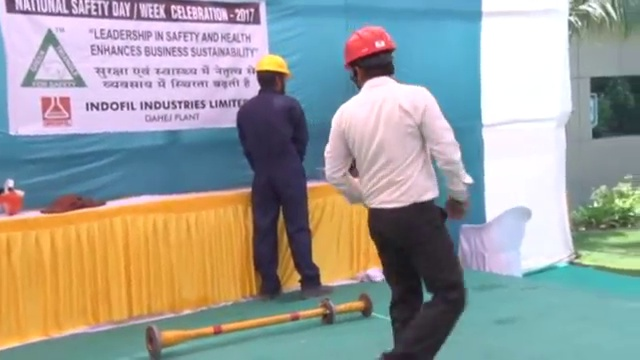helmet: (341, 25, 397, 68), (255, 53, 291, 78)
helmet_on: (339, 23, 399, 95), (253, 51, 292, 96)
person: (324, 22, 473, 360), (235, 50, 334, 300)
